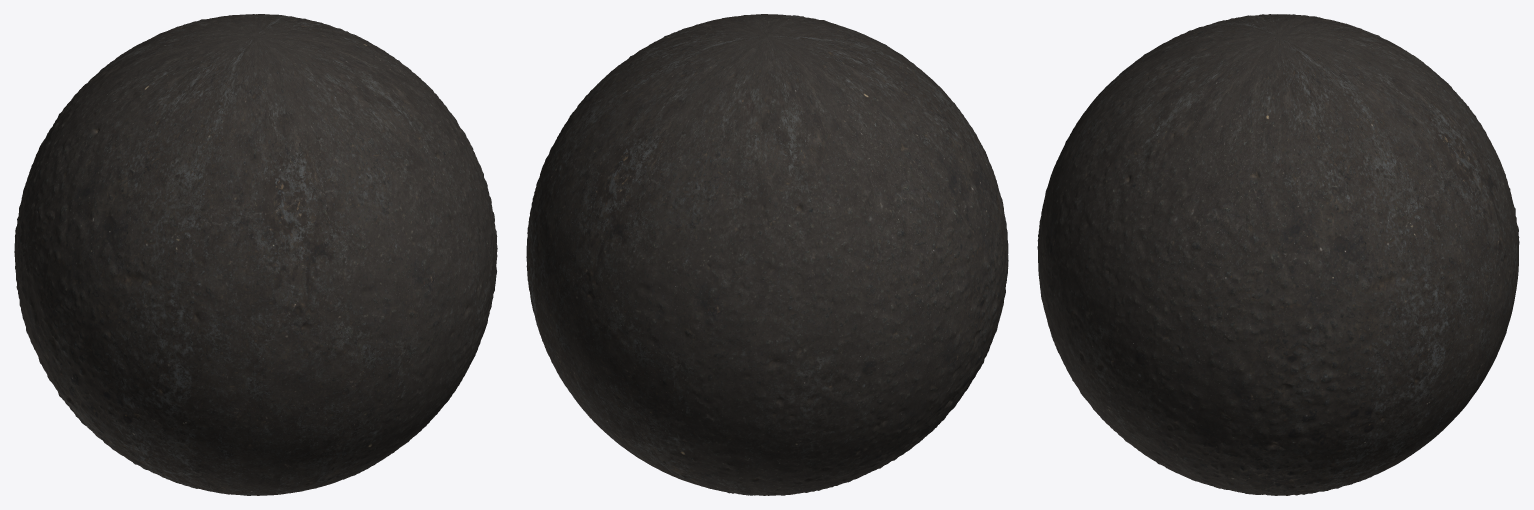
Rendered from hangar_concrete_floor_2k.gltf.
3 renders of one model, left to right at view 1: azimuth 30°, elevation 25°; view 2: azimuth 150°, elevation 25°; view 3: azimuth 270°, elevation 25°, orthographic.
Parts seen in each view (by area): view 1: sphere_gltf; view 2: sphere_gltf; view 3: sphere_gltf.
Boxes of the visible parts, x1,y1,x2,y2 form: sphere_gltf: (14,14,497,495); sphere_gltf: (526,14,1008,495); sphere_gltf: (1037,14,1519,495).
Bounding box in the file's own units: 2.04 × 2.04 × 2.04.
Materials: 1 (1 with a texture image).
